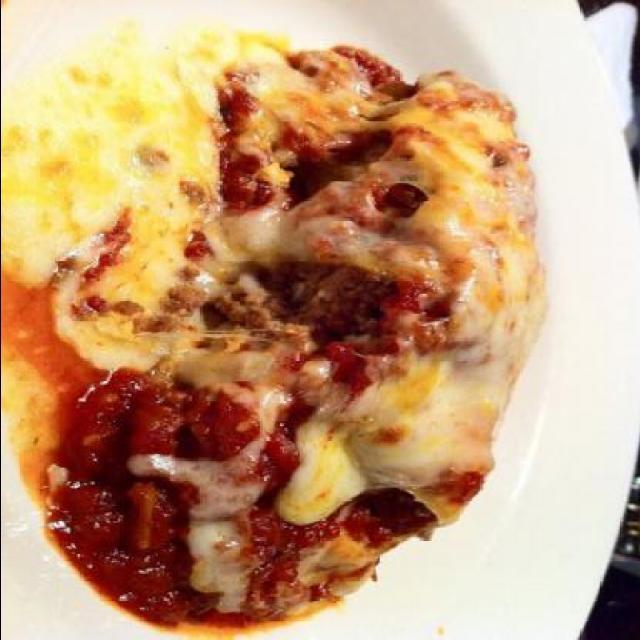Lasagna: (54, 54, 548, 608)
